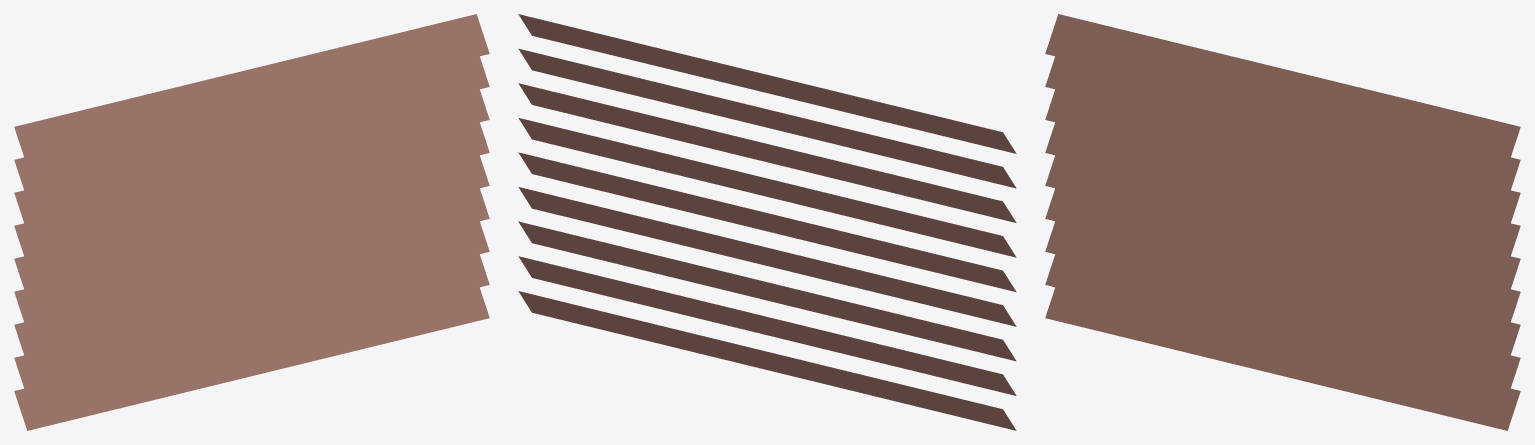
The model's file is Curtains_027.glb.
The picture shows the model from 3 angles, left to right: view 1: azimuth 30°, elevation 25°; view 2: azimuth 150°, elevation 25°; view 3: azimuth 330°, elevation 25°; orthographic projection. The views are drawn at different scales.
Visible parts, largest first — view 1: Curtains_027; view 2: Curtains_027; view 3: Curtains_027.
Boxes of the visible parts, <box> form: Curtains_027: <box>14,14,489,430</box>; Curtains_027: <box>518,14,1016,430</box>; Curtains_027: <box>1045,14,1520,430</box>.
Bounding box in the file's own units: 1.53 × 0.9326 × 0.0752.
Materials: 1 (1 with a texture image).
